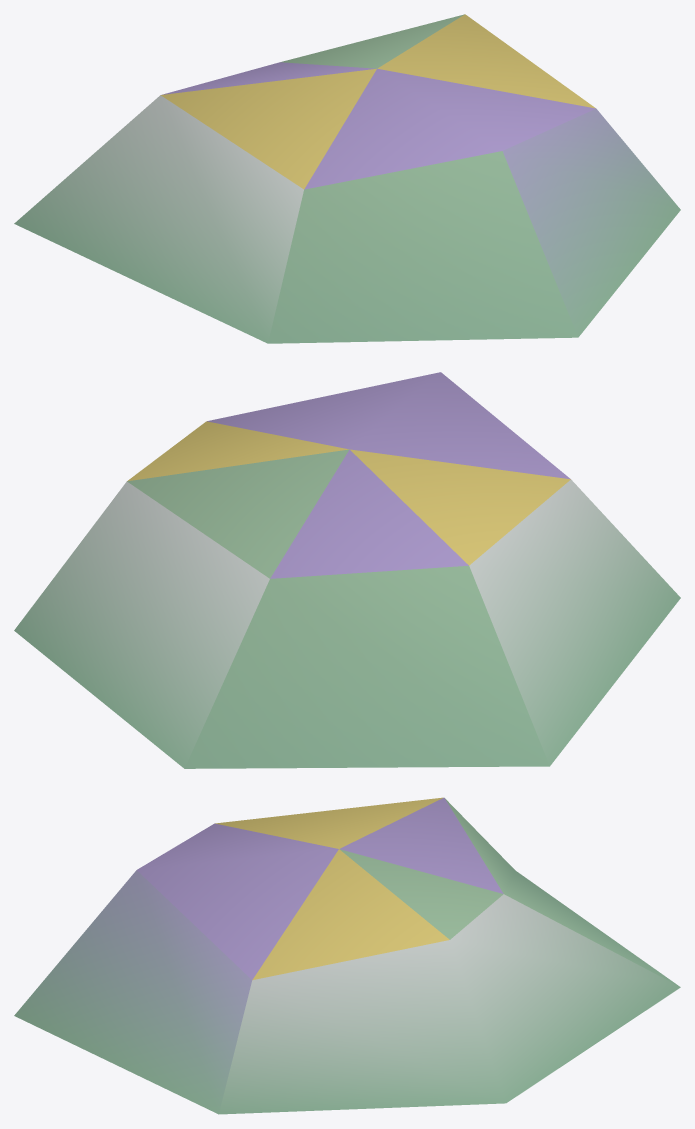
File: crocus_patch_c_far.glb
3 renders of one model, top to bottom at view 1: azimuth 30°, elevation 25°; view 2: azimuth 150°, elevation 25°; view 3: azimuth 270°, elevation 25°, orthographic. The views are drawn at different scales.
Visible parts, largest first — view 1: soft; view 2: soft; view 3: soft.
Part boxes in pixels (<box>): soft: <box>14,14,680,343</box>; soft: <box>14,372,680,768</box>; soft: <box>14,797,680,1114</box>.
Bounding box in the file's own units: 0.4866 × 0.14 × 0.5618.
